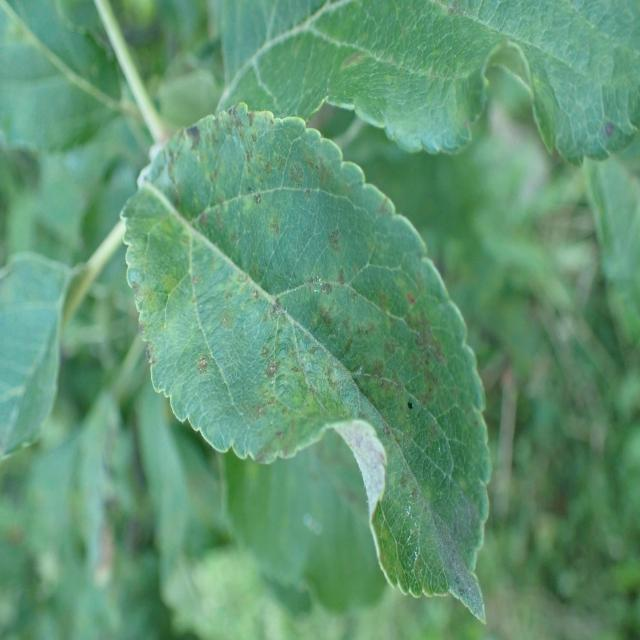scab: (118, 103, 492, 619), (212, 0, 636, 188)
